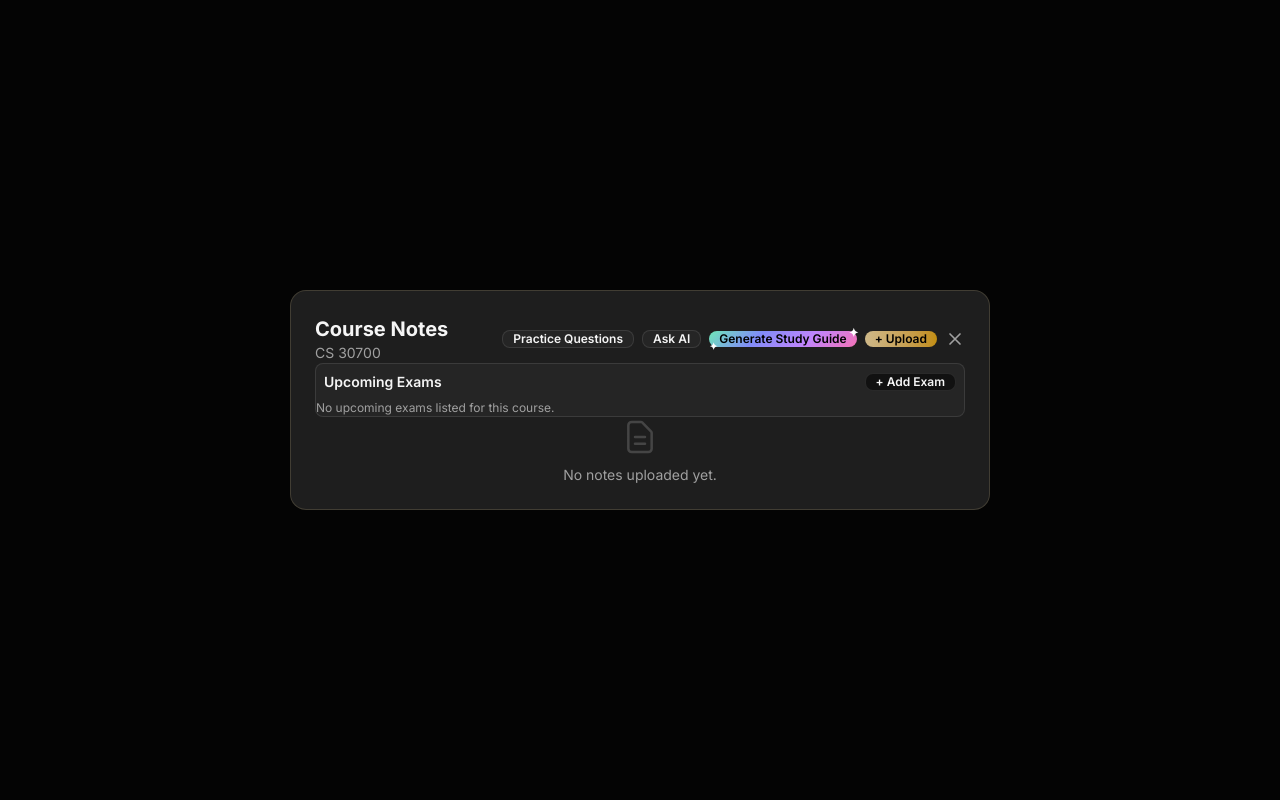
Test: CourseNotes — Upload Form Toggle › shows upload form when upload button is clicked
Click the button "+ Upload".
click(901, 339)  # box 865,331 -> 937,347
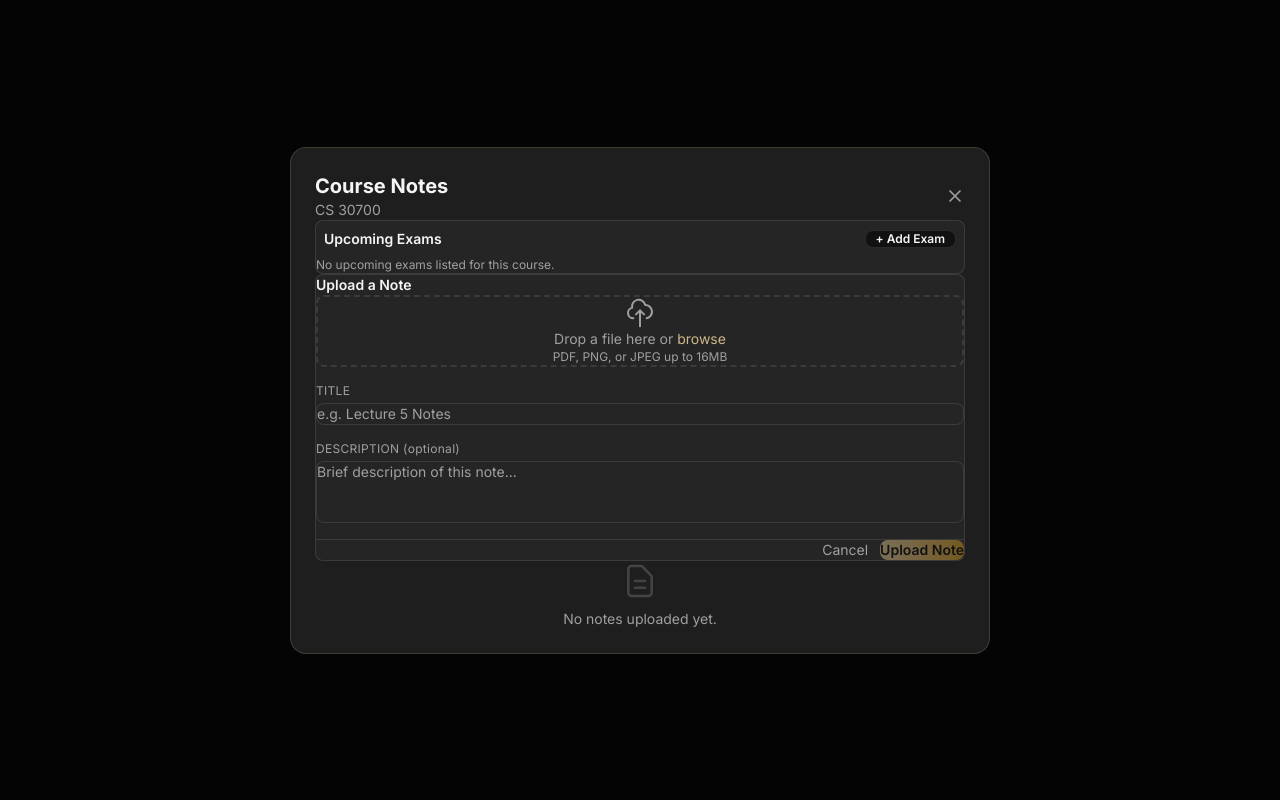
Check: the heading "Upload a Note" is shown, box 316,276 -> 412,292
Check: the button "Upload Note" is shown, box 880,540 -> 964,560
